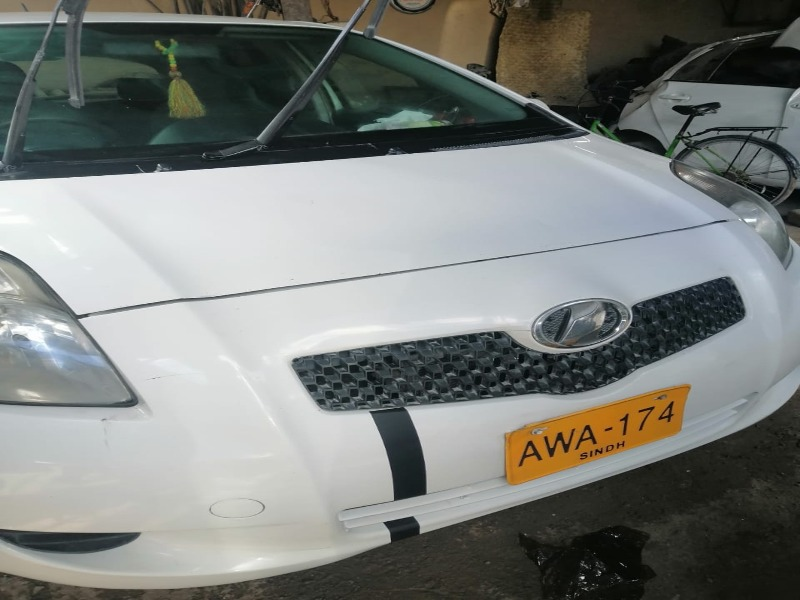License Plate: (506, 385, 689, 489)
